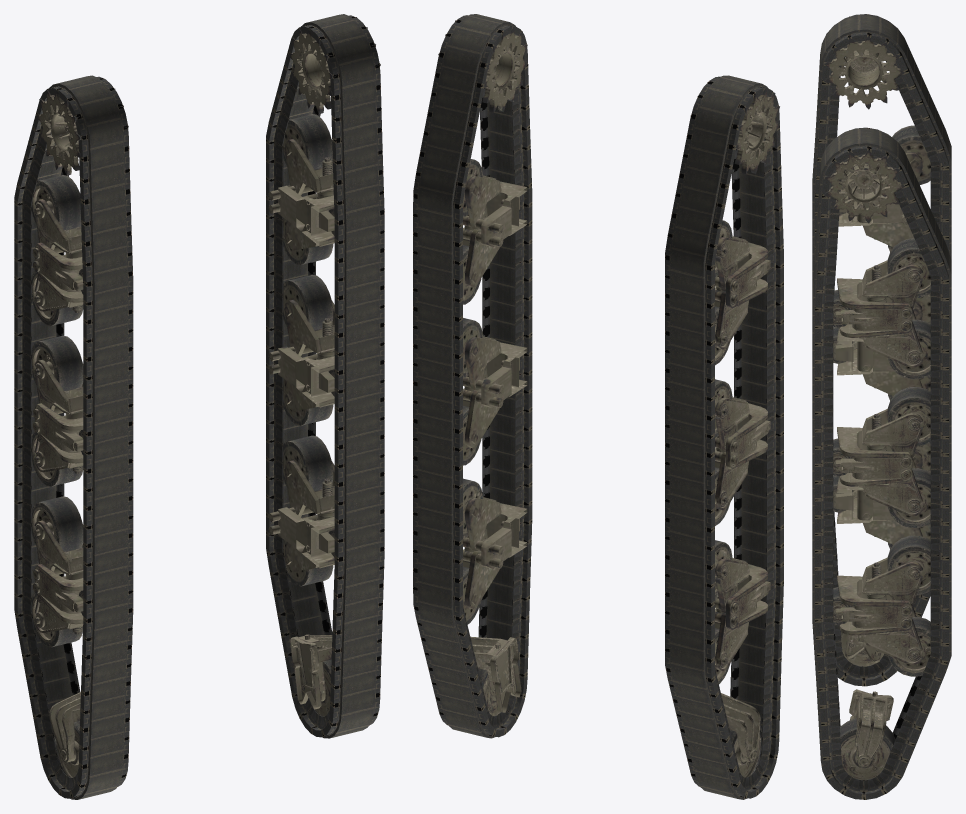
File: Chassis.glb
3 renders of one model, left to right at view 1: azimuth 30°, elevation 25°; view 2: azimuth 150°, elevation 25°; view 3: azimuth 270°, elevation 25°, orthographic. The views are drawn at different scales.
Visible parts, largest first — view 1: set_0_group_0, set_1_group_0, set_3_group_0, set_2_group_0; view 2: set_0_group_0, set_1_group_0, set_3_group_0, set_2_group_0; view 3: set_3_group_0, set_1_group_0, set_2_group_0, set_0_group_0.
Part boxes in pixels (x1,y1,x2,y2): set_0_group_0: (14,75,133,799); set_1_group_0: (266,14,384,738); set_3_group_0: (268,17,380,716); set_2_group_0: (31,88,128,777); set_0_group_0: (665,75,783,799); set_1_group_0: (413,14,532,738); set_3_group_0: (438,15,527,716); set_2_group_0: (690,76,779,777); set_3_group_0: (824,130,930,779); set_1_group_0: (812,127,951,799); set_2_group_0: (824,16,930,666); set_0_group_0: (812,14,951,686).
Bounding box in the file's own units: 2.77 × 6.14 × 1.18.
Materials: 4 (4 with a texture image).
